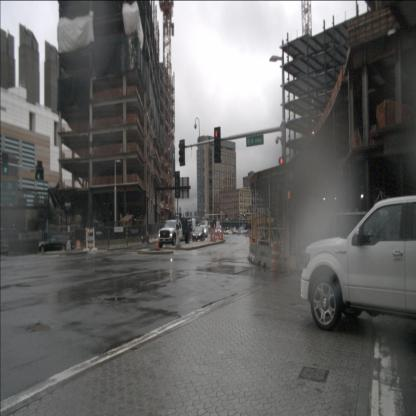movable_object-barrier: (254, 245, 272, 270), (107, 238, 128, 250), (87, 240, 109, 250), (248, 242, 258, 263), (127, 236, 142, 247), (74, 240, 88, 250), (153, 233, 163, 243), (146, 235, 156, 245), (248, 231, 252, 238), (245, 231, 249, 237)
movable_object-trafficcone: (268, 243, 282, 273), (248, 237, 256, 259), (280, 243, 286, 272), (258, 232, 262, 258), (155, 234, 160, 250), (209, 228, 213, 242), (76, 240, 81, 250), (220, 228, 224, 240), (215, 227, 218, 240), (213, 229, 216, 242), (218, 229, 221, 240)
vehicle-car: (301, 196, 415, 332), (39, 235, 75, 253), (192, 226, 206, 241), (0, 240, 9, 257), (199, 225, 208, 238), (215, 225, 222, 235), (237, 227, 245, 235)
vehicle-truck: (158, 217, 192, 248), (180, 218, 196, 237)
